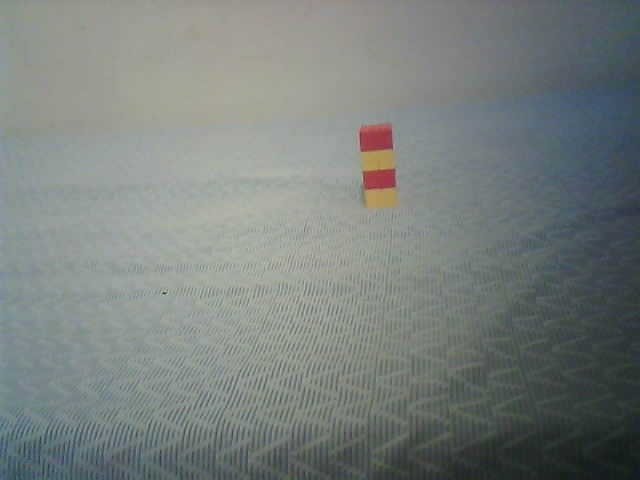lego: (357, 121, 398, 210)
